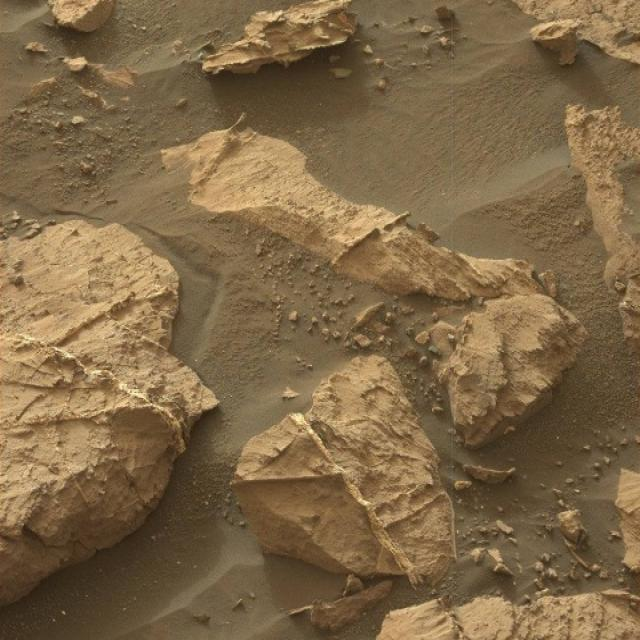rock: (0, 211, 219, 619), (236, 357, 464, 584), (419, 282, 588, 454), (556, 97, 640, 355), (372, 582, 639, 640), (200, 0, 362, 85), (509, 0, 639, 61), (615, 464, 640, 579), (45, 0, 117, 33)
